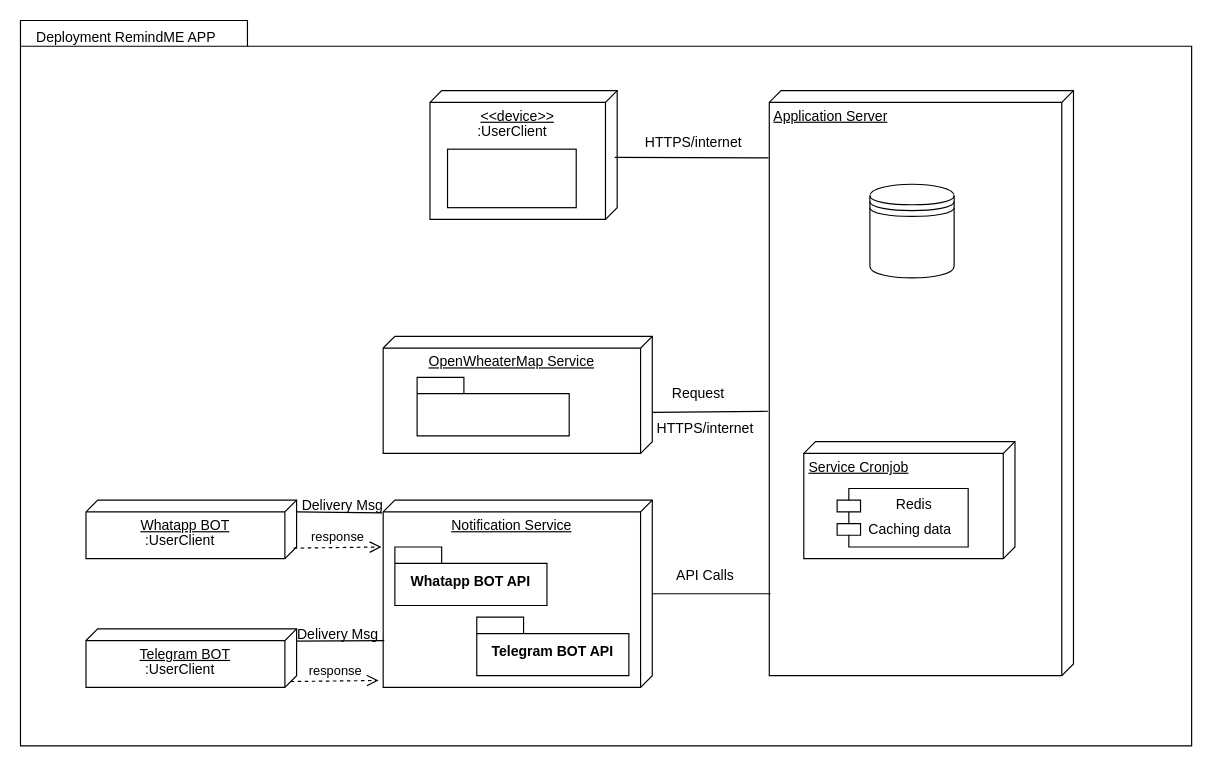
The diagram is 1212 pixels wide and 766 high, and some of its shapes have lost their labels. Here are the shapes that lost their labels. From the top down, the centre of each, then its label:
At (511,178): "<<artefact>> Flutter APP".
At (911,230): "Databases".
At (492,406): "Wheater API".
